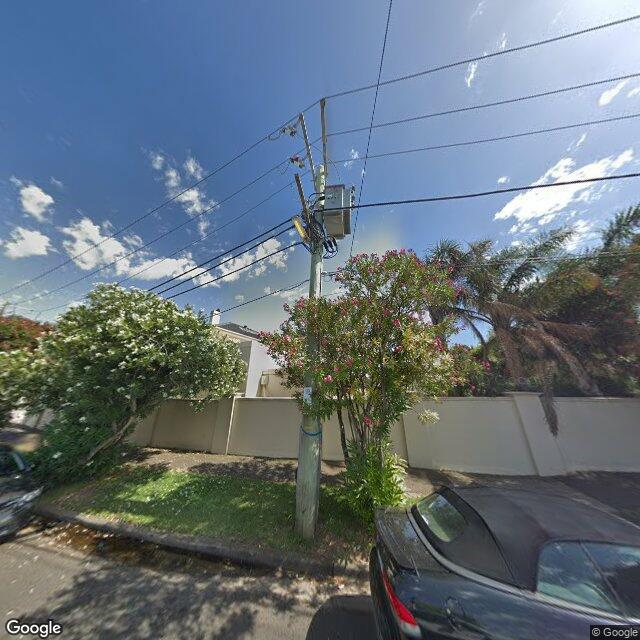HV-transmission: (268, 98, 329, 184)
crossarm: (300, 114, 316, 180), (295, 173, 311, 224), (320, 97, 329, 178)
streetlight: (292, 216, 314, 246)
timber-pole: (292, 164, 326, 540)
transformer: (324, 183, 356, 253)
